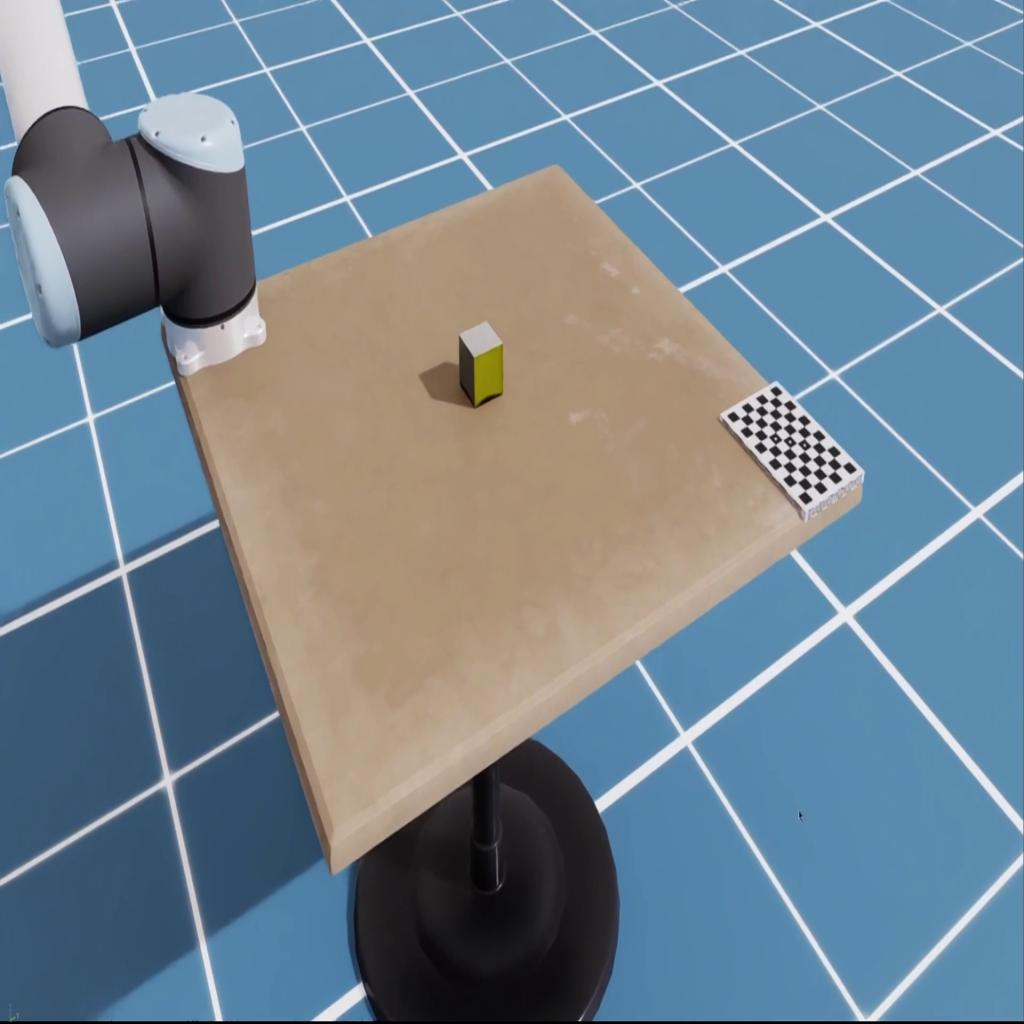Cube: (458, 320, 504, 408)
QR: (718, 380, 864, 522)
Robot: (0, 0, 267, 379)
Table: (161, 162, 862, 876)
